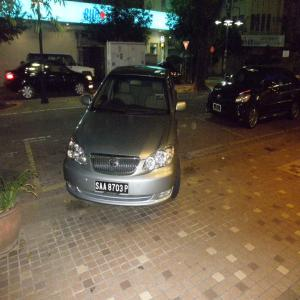Vehicle-registration-plate: (97, 182, 130, 195), (214, 104, 222, 112)
